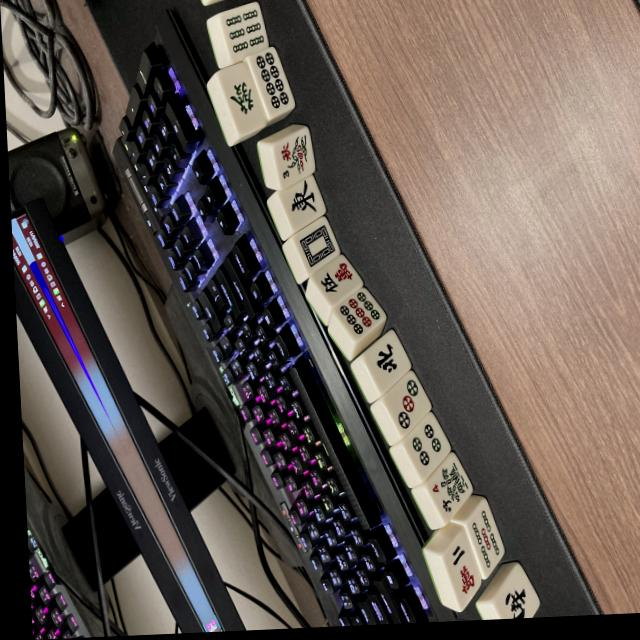bai: (290, 218, 343, 277)
east: (279, 175, 329, 234)
f4: (422, 452, 479, 523)
fa: (219, 61, 270, 137)
ff3: (273, 128, 317, 189)
m2: (441, 531, 486, 611)
m5: (309, 252, 367, 308)
north: (359, 330, 415, 395)
s5: (462, 504, 509, 579)
s6: (221, 3, 270, 62)
south: (490, 563, 545, 619)
t3: (380, 369, 436, 440)
t4: (399, 411, 456, 481)
t8: (250, 47, 299, 121)
t9: (332, 285, 390, 345)
